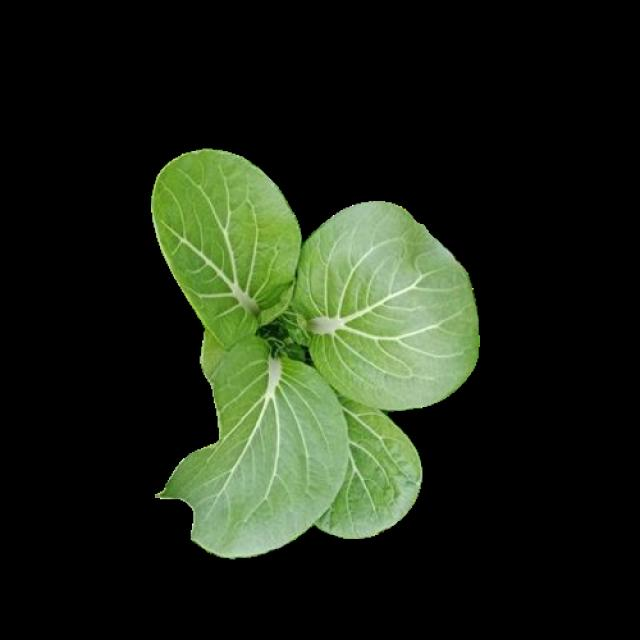healthy: (153, 167, 475, 556)
not-mature: (153, 156, 475, 545)
